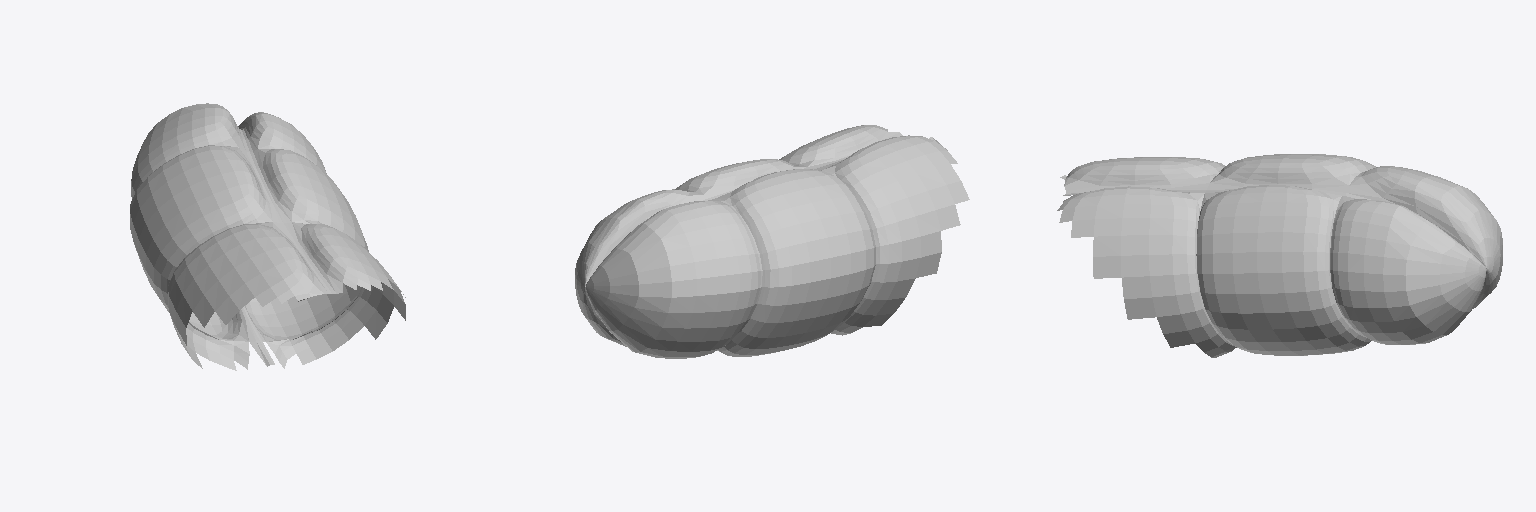
File: large intestine-visual.obj
The picture shows the model from 3 angles: view 1: azimuth 30°, elevation 25°; view 2: azimuth 150°, elevation 25°; view 3: azimuth 270°, elevation 25°; orthographic projection.
Parts seen in each view (by area): view 1: large_intestine-visual_large_intestine.000; view 2: large_intestine-visual_large_intestine.000; view 3: large_intestine-visual_large_intestine.000.
Part boxes in pixels (bbox=[...]): large_intestine-visual_large_intestine.000: bbox=[130, 103, 405, 370]; large_intestine-visual_large_intestine.000: bbox=[575, 125, 969, 358]; large_intestine-visual_large_intestine.000: bbox=[1057, 154, 1502, 357].
Bounding box in the file's own units: 3.92 × 2.78 × 6.2.